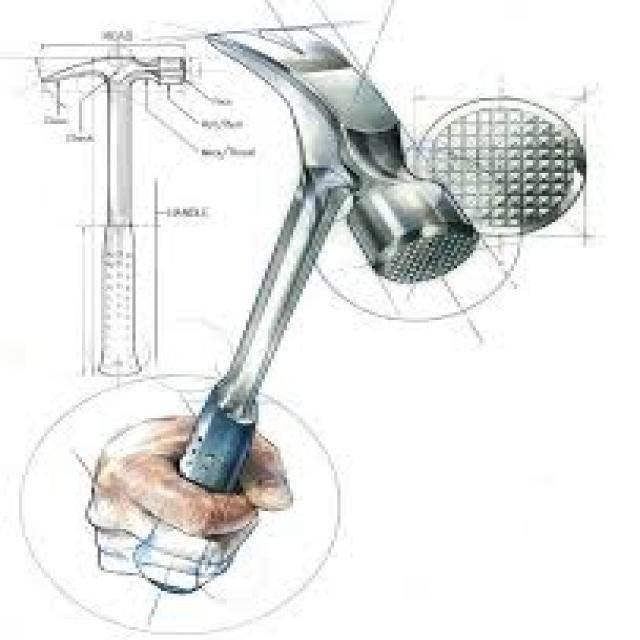hammer: (136, 15, 470, 598)
